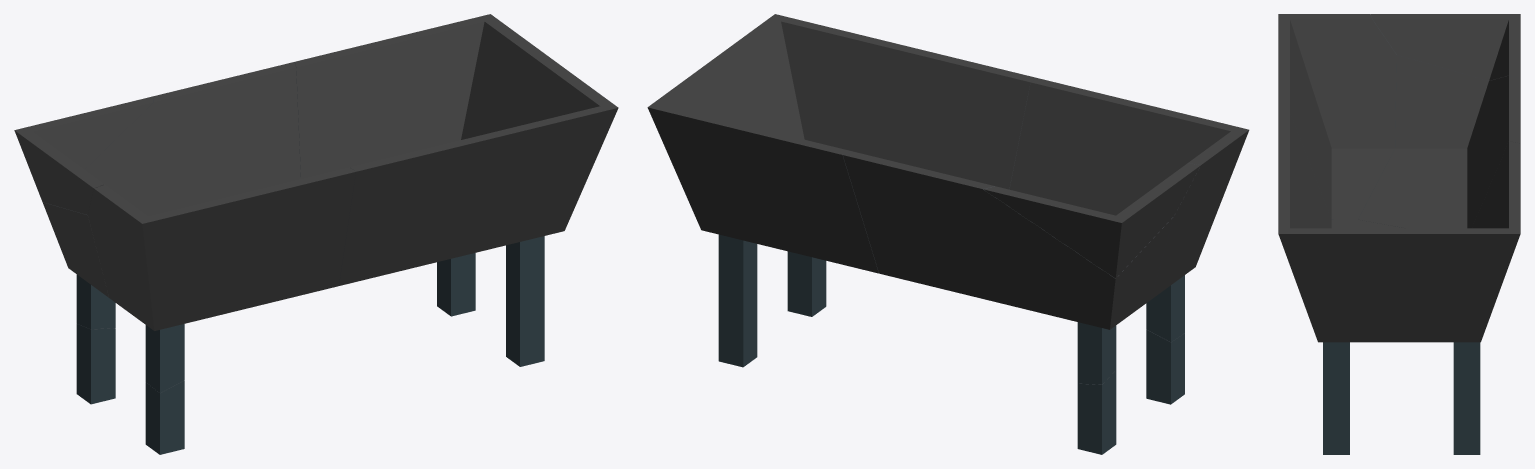
File: Griller_Picnic_DEST.fbx
The picture shows the model from 3 angles, left to right: view 1: azimuth 30°, elevation 25°; view 2: azimuth 150°, elevation 25°; view 3: azimuth 270°, elevation 25°; orthographic projection. The views are drawn at different scales.
Visible parts, largest first — view 1: pCube11_cell.005, pCube11_cell.001, pCube11_cell.002, pCube11_cell.004, pCube11_cell.008, pCube11_cell.003, pCube11_cell, pCube11_cell.006, pCube11_cell.009, pCube11_cell.007; view 2: pCube11_cell.005, pCube11_cell.002, pCube11_cell.001, pCube11_cell.004, pCube11_cell.009, pCube11_cell.003, pCube11_cell, pCube11_cell.008, pCube11_cell.007, pCube11_cell.006; view 3: pCube11_cell.005, pCube11_cell.001, pCube11_cell.002, pCube11_cell.004, pCube11_cell.009, pCube11_cell.008.
Part boxes in pixels (x1,y1,x2,y2): pCube11_cell.005: (294, 14, 618, 285); pCube11_cell.001: (88, 167, 355, 330); pCube11_cell.002: (42, 62, 300, 297); pCube11_cell.004: (14, 96, 153, 214); pCube11_cell.008: (506, 236, 544, 366); pCube11_cell.003: (76, 324, 115, 404); pCube11_cell: (145, 380, 184, 454); pCube11_cell.006: (145, 324, 184, 392); pCube11_cell.009: (437, 253, 475, 316); pCube11_cell.007: (76, 274, 115, 329); pCube11_cell.005: (647, 14, 1036, 273); pCube11_cell.002: (843, 151, 1173, 329); pCube11_cell.001: (1009, 78, 1249, 299); pCube11_cell.004: (984, 163, 1200, 278); pCube11_cell.009: (718, 234, 757, 367); pCube11_cell.003: (1077, 370, 1116, 454); pCube11_cell: (1146, 329, 1184, 404); pCube11_cell.008: (787, 251, 826, 316); pCube11_cell.007: (1077, 322, 1116, 384); pCube11_cell.006: (1146, 275, 1184, 341); pCube11_cell.005: (1278, 112, 1520, 342); pCube11_cell.001: (1278, 14, 1396, 219); pCube11_cell.002: (1358, 55, 1520, 228); pCube11_cell.004: (1370, 14, 1520, 80); pCube11_cell.009: (1453, 342, 1480, 454); pCube11_cell.008: (1323, 342, 1349, 454).
Size of the model in its own units: 493 by 256 by 230.
